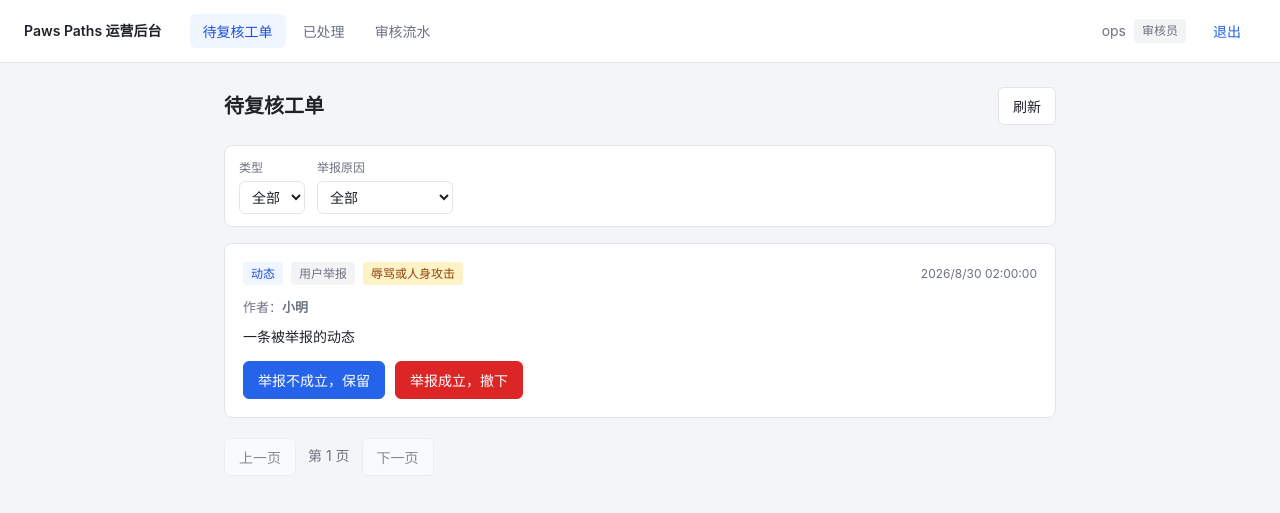
外壳与视图切换 › 点「已处理」切到历史页
Expected: the heading "待复核工单" is shown, [224,90,324,122]
Click the button "已处理".
click(324, 31)  # box [290,14,358,48]
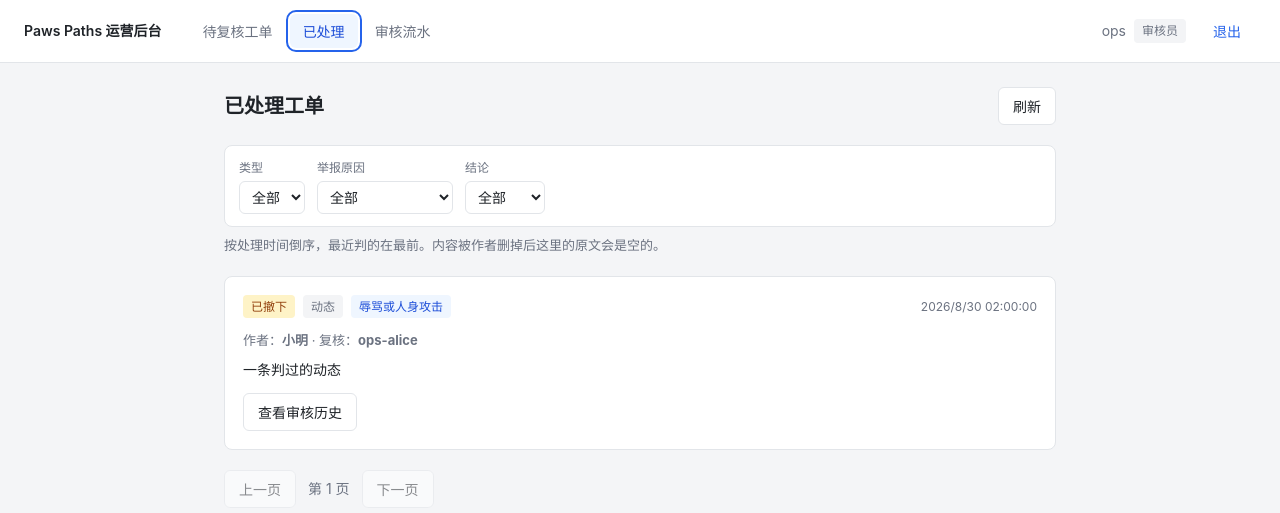
Expected: the heading "已处理工单" is shown, [224,90,324,122]
